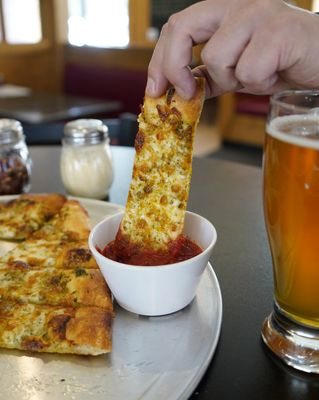sushi: (88, 209, 217, 317)
